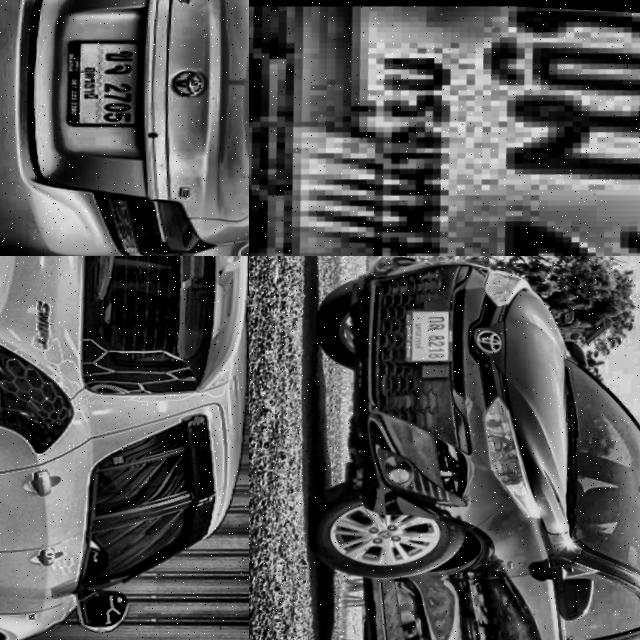license-plate: (249, 0, 640, 256), (61, 29, 160, 132), (395, 297, 466, 370)
